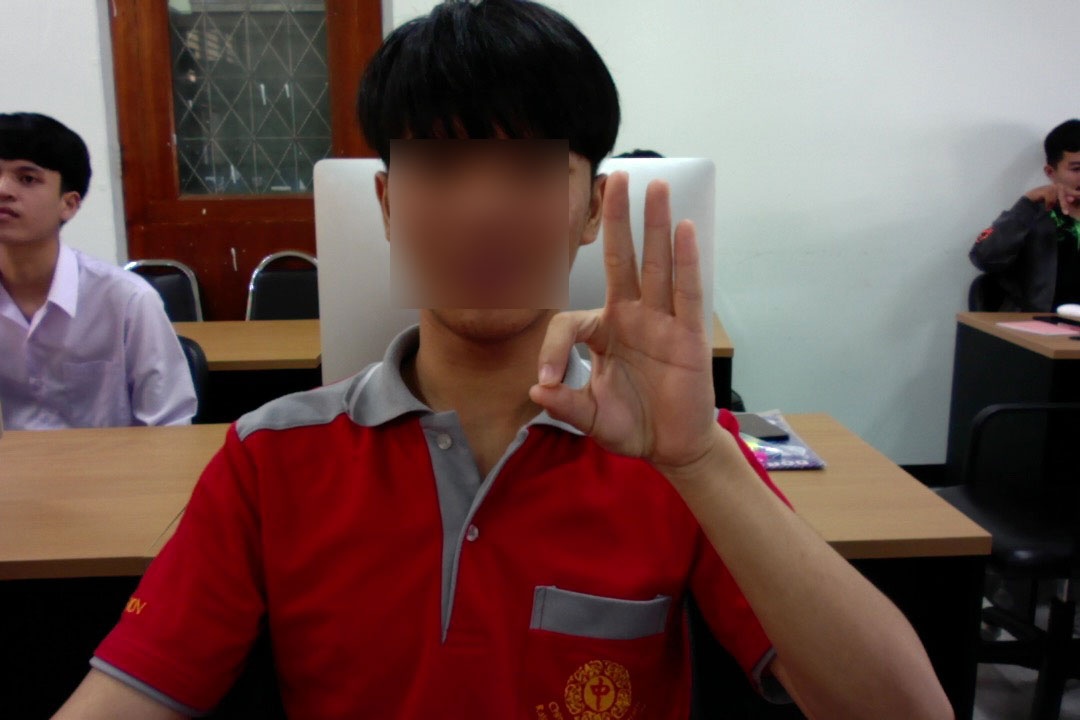for: (519, 161, 727, 488)
